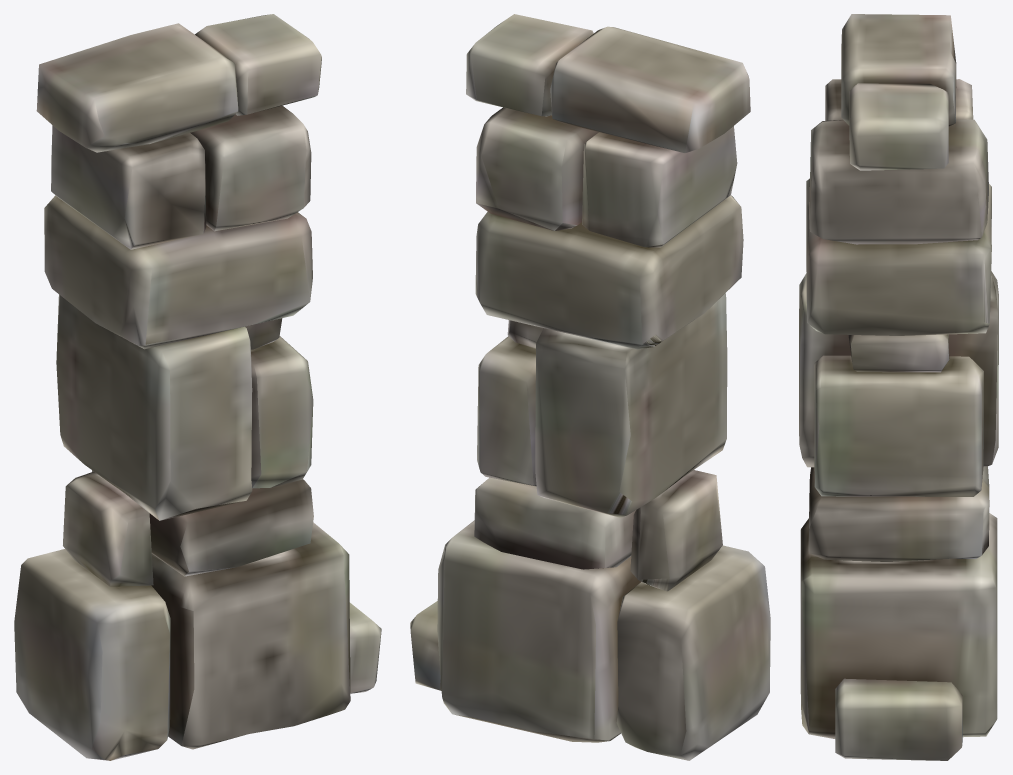
Rendered from stone.fbx.
3 views of the same model, side by side, from view 1: azimuth 30°, elevation 25°; view 2: azimuth 150°, elevation 25°; view 3: azimuth 270°, elevation 25° (orthographic). The views are drawn at different scales.
Visible parts, largest first — view 1: Stylized_Stone_Bricks_Stylized_Stone_Bricks_Mat_0.001; view 2: Stylized_Stone_Bricks_Stylized_Stone_Bricks_Mat_0.001; view 3: Stylized_Stone_Bricks_Stylized_Stone_Bricks_Mat_0.001.
Boxes of the visible parts, <box> form: Stylized_Stone_Bricks_Stylized_Stone_Bricks_Mat_0.001: <box>14,14,381,760</box>; Stylized_Stone_Bricks_Stylized_Stone_Bricks_Mat_0.001: <box>410,14,770,760</box>; Stylized_Stone_Bricks_Stylized_Stone_Bricks_Mat_0.001: <box>799,14,998,760</box>.
Size of the model in its own units: 65.76 by 138 by 39.91.
Materials: 1 (1 with a texture image).
